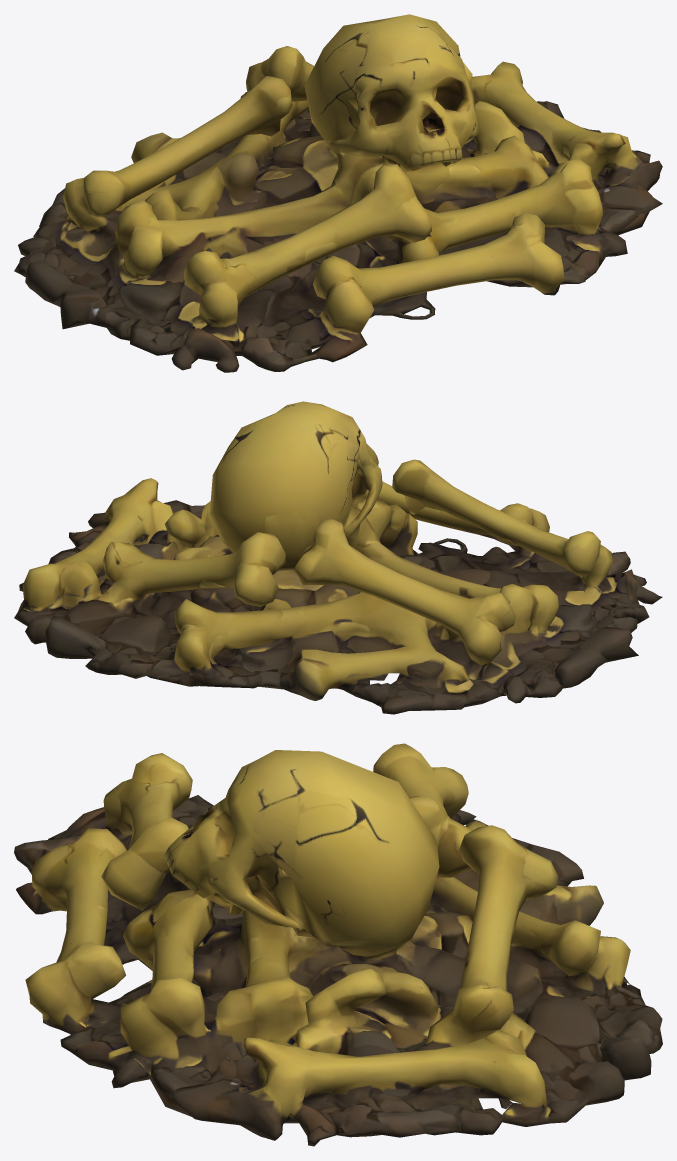
The model's file is bone pile 3d model.glb.
3 renders of one model, top to bottom at view 1: azimuth 30°, elevation 25°; view 2: azimuth 150°, elevation 25°; view 3: azimuth 270°, elevation 25°, orthographic. The views are drawn at different scales.
Visible parts, largest first — view 1: tripo_node_1025ba06; view 2: tripo_node_1025ba06; view 3: tripo_node_1025ba06.
Part boxes in pixels (left/top/right/bottom): tripo_node_1025ba06: left=14, top=14, right=662, bottom=372; tripo_node_1025ba06: left=14, top=401, right=662, bottom=714; tripo_node_1025ba06: left=14, top=743, right=662, bottom=1146.
Size of the model in its own units: 95.27 by 30.99 by 73.98.
Materials: 1 (1 with a texture image).
